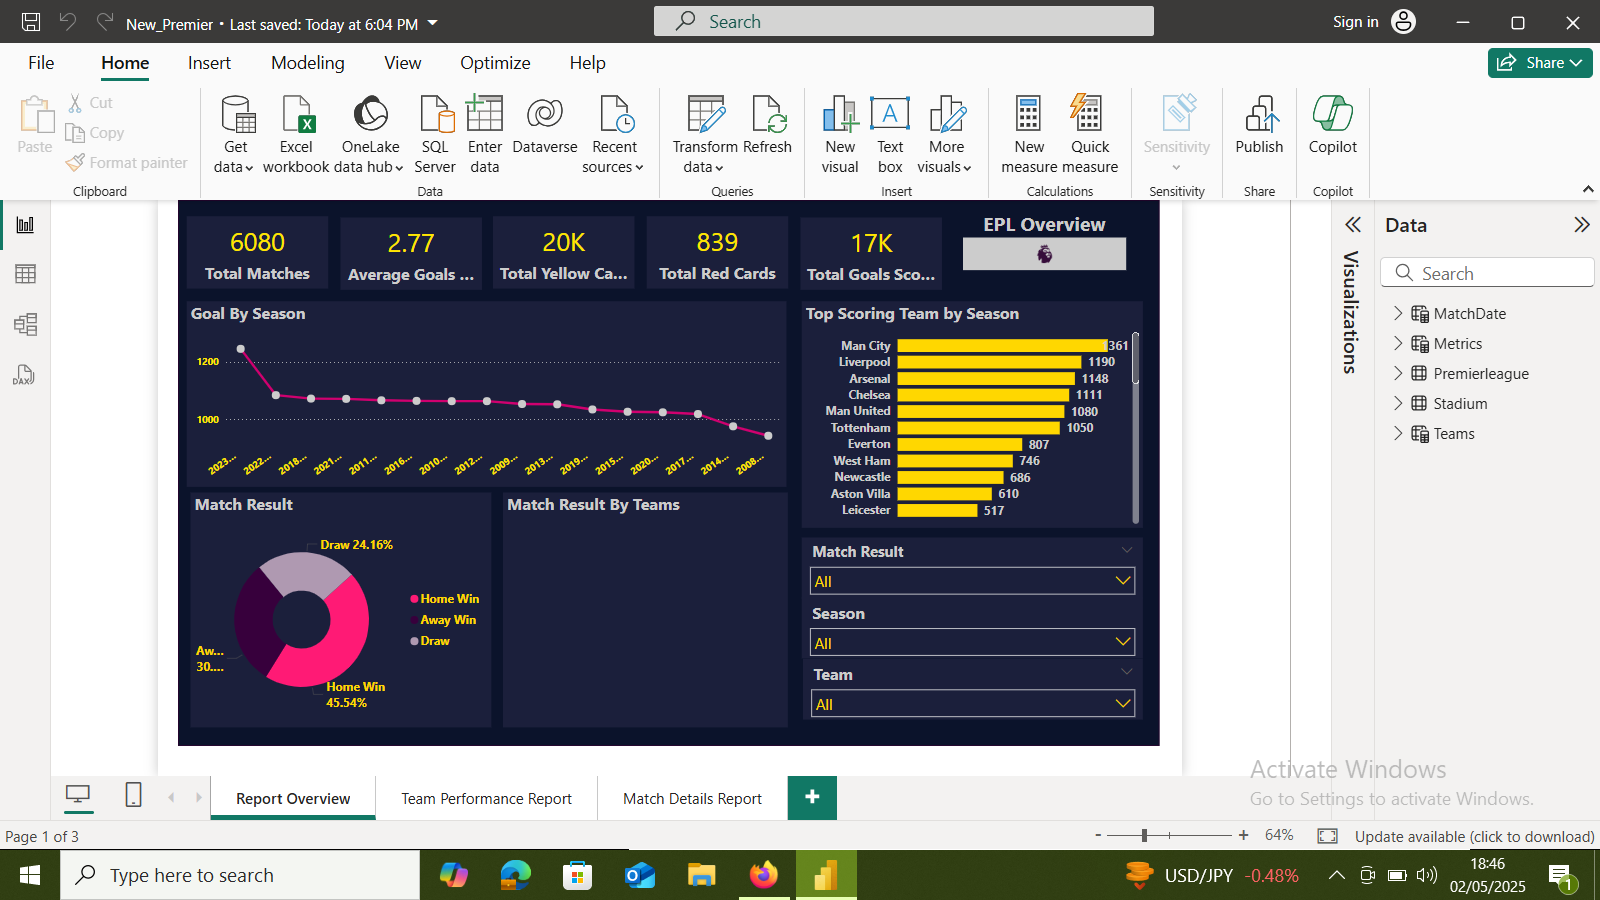

Layout of this report page (visuals, bound fields, positions):
{"tool":"powerbi","page":{"name":"Report Overview","canvas":[1280,720],"ordinal":0},"visuals":[{"type":"shape","box":[24.6,0,1227.4,682.7],"z":0,"group":"g2"},{"type":"card","fields":{"Values":["Metrics.Total Matches Played"]},"box":[36.3,20.1,176.8,90.6],"z":1000,"group":"g1"},{"type":"lineChart","title":"Goal By Season","fields":{"Category":["Premierleague.Season"],"Y":["Metrics.Total Goals Scored"]},"box":[36.3,126.9,749.7,232.3],"z":1000,"group":"g2"},{"type":"card","fields":{"Values":["Metrics.Average Goals Per Match"]},"box":[228.1,21.6,176.8,90],"z":2000,"group":"g1"},{"type":"slicer","fields":{"Values":["MatchDate.Season"]},"box":[804.1,497.6,426.8,75.8],"z":2000,"group":"g2"},{"type":"card","fields":{"Values":["Metrics.Total Yellow Cards"]},"box":[419.9,19.8,176.8,90.6],"z":3000,"group":"g1"},{"type":"clusteredBarChart","title":"Top Scoring Team  by Season","fields":{"Category":["Teams.Team"],"Y":["Metrics.Top Scoring Team Total Goals"]},"box":[804.1,126.9,426.8,283.4],"z":3000,"group":"g2"},{"type":"card","fields":{"Values":["Metrics.Total Red Cards (Selected or All)"]},"box":[611.6,19.8,176.8,90],"z":4000,"group":"g1"},{"type":"donutChart","title":"Match Result","fields":{"Category":["Premierleague.Match Result"],"Y":["CountNonNull(Premierleague.Match Result)"]},"box":[39.6,365.8,375.7,293.3],"z":4000,"group":"g2"},{"type":"card","fields":{"Values":["Metrics.Total Goals Scored"]},"box":[803.4,21.4,176.8,90],"z":5000,"group":"g1"},{"type":"slicer","fields":{"Values":["Premierleague.Match Result"]},"box":[804.1,421.8,426.8,75.8],"z":5000,"group":"g2"},{"type":"slicer","fields":{"Values":["Teams.Team"]},"box":[805.8,573.4,425.1,75.8],"z":6000,"group":"g2"},{"type":"donutChart","title":"Match Result By Teams","fields":{"Category":["Premierleague.Match Result"],"Y":["Metrics.Team Match Result Count"]},"box":[430.1,365.8,355.9,293.3],"z":7000,"group":"g2"},{"type":"group","id":"g1","title":"Group 1","box":[36.3,19.8,944.2,92.3],"z":8000,"group":"g2"},{"type":"textbox","box":[980.5,8.2,253.8,56],"z":9000,"group":"g2"},{"type":"image","box":[1005.2,46.1,204.3,41.2],"z":10000,"group":"g2"},{"type":"group","id":"g2","title":"Group 2","box":[24.6,0,1227.4,682.7],"z":10001}]}

Visuals, with their boxes on the page's 1280x720 design canvas (x1, y1, x2, y2). These are canvas units, not pixel positions in the 1600x900 screenshot, which may show the page scaled, cropped or inside an application window:
shape: pyautogui.locateOnScreen(25, 0, 1252, 683)
card - Metrics.Total Matches Played: pyautogui.locateOnScreen(36, 20, 213, 111)
"Goal By Season" lineChart: pyautogui.locateOnScreen(36, 127, 786, 359)
card - Metrics.Average Goals Per Match: pyautogui.locateOnScreen(228, 22, 405, 112)
slicer - MatchDate.Season: pyautogui.locateOnScreen(804, 498, 1231, 573)
card - Metrics.Total Yellow Cards: pyautogui.locateOnScreen(420, 20, 597, 110)
"Top Scoring Team  by Season" clusteredBarChart: pyautogui.locateOnScreen(804, 127, 1231, 410)
card - Metrics.Total Red Cards (Selected or All): pyautogui.locateOnScreen(612, 20, 788, 110)
"Match Result" donutChart: pyautogui.locateOnScreen(40, 366, 415, 659)
card - Metrics.Total Goals Scored: pyautogui.locateOnScreen(803, 21, 980, 111)
slicer - Premierleague.Match Result: pyautogui.locateOnScreen(804, 422, 1231, 498)
slicer - Teams.Team: pyautogui.locateOnScreen(806, 573, 1231, 649)
"Match Result By Teams" donutChart: pyautogui.locateOnScreen(430, 366, 786, 659)
"Group 1" group: pyautogui.locateOnScreen(36, 20, 980, 112)
textbox: pyautogui.locateOnScreen(980, 8, 1234, 64)
image: pyautogui.locateOnScreen(1005, 46, 1210, 87)
"Group 2" group: pyautogui.locateOnScreen(25, 0, 1252, 683)
